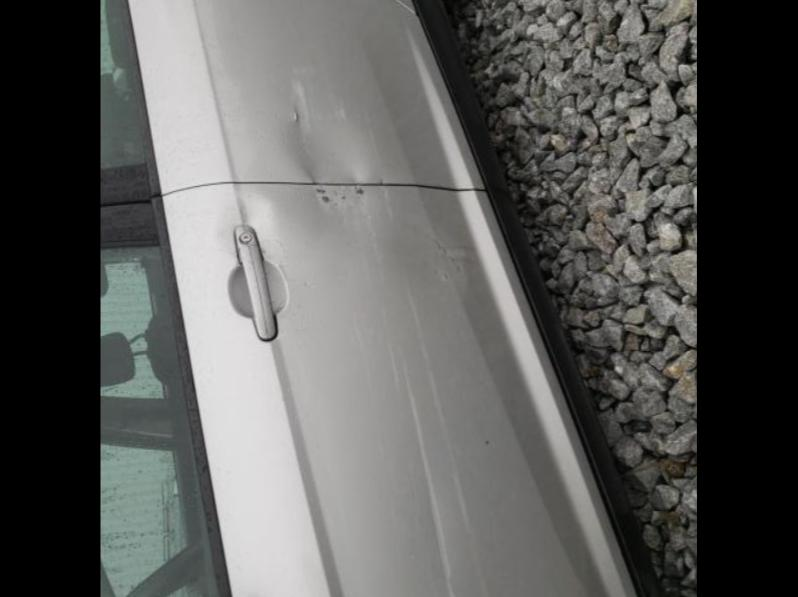Dent: (266, 92, 364, 182), (404, 222, 476, 282), (217, 192, 272, 248), (308, 184, 370, 214), (382, 186, 390, 193), (378, 177, 386, 182)
Flaking: (260, 234, 296, 284), (480, 438, 490, 446)
Paint chip: (286, 106, 302, 124)
Scratch: (398, 356, 459, 597), (402, 292, 450, 434), (448, 468, 472, 536), (362, 196, 386, 258), (388, 344, 402, 388), (382, 193, 396, 230), (352, 310, 364, 347), (288, 76, 304, 96), (478, 576, 492, 597), (380, 312, 390, 336), (336, 100, 350, 116), (368, 374, 372, 394)
